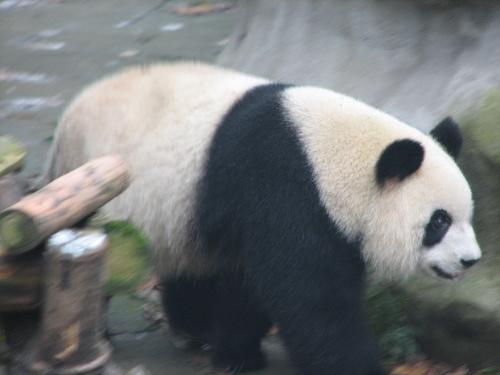panda: (37, 62, 480, 374)
